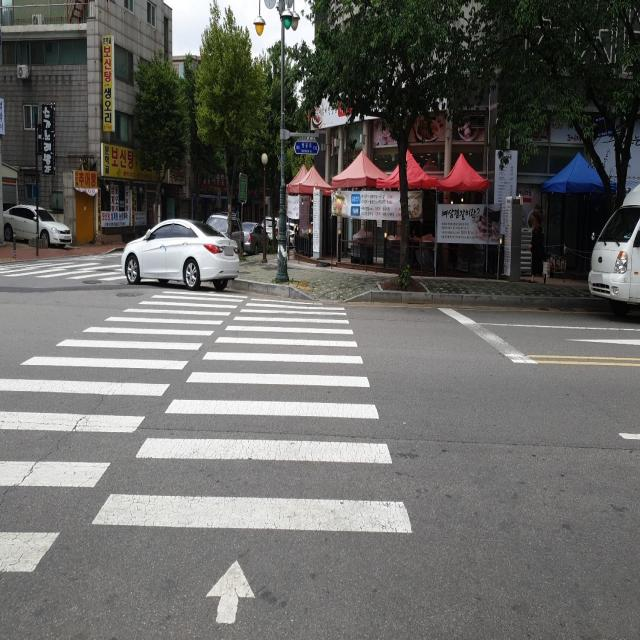횡단보도: (0, 287, 415, 632), (0, 262, 131, 290)
